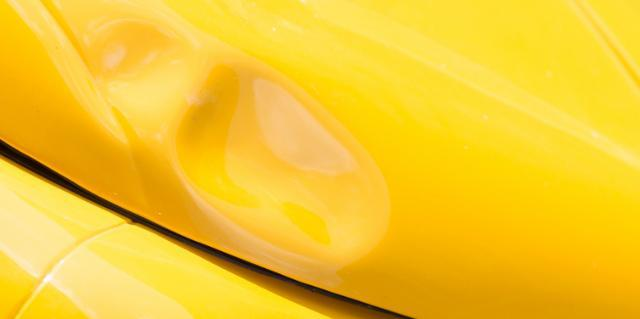Bonnet: (55, 10, 415, 264)
